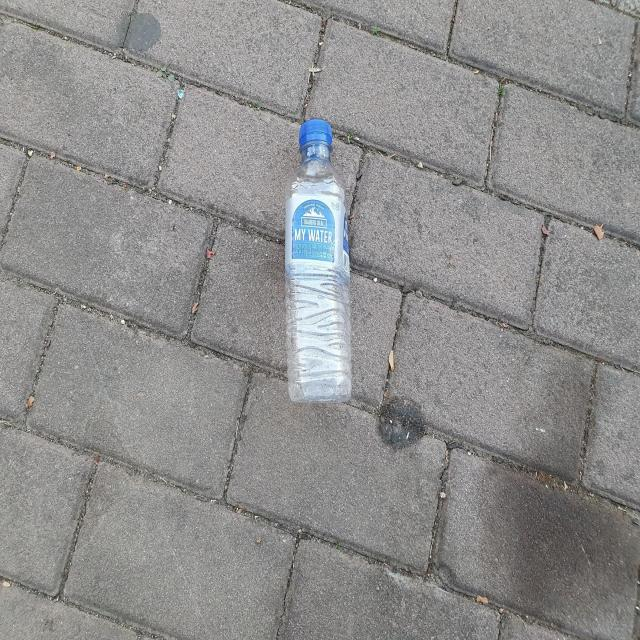plastic: (285, 118, 351, 402)
